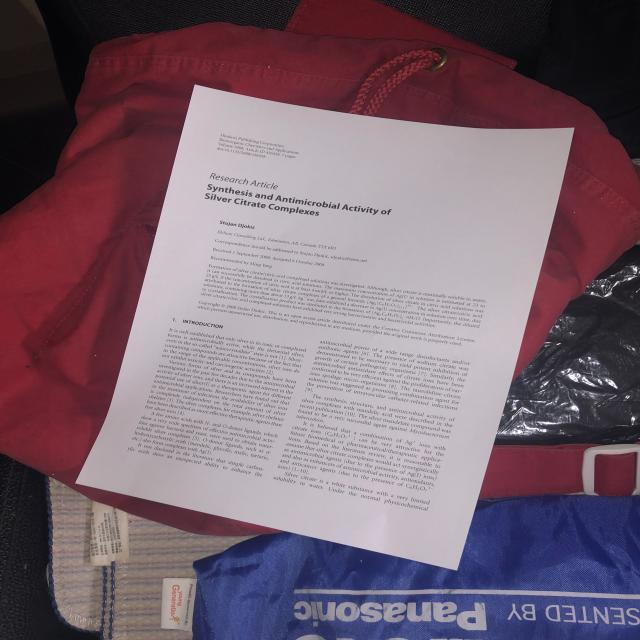document: (78, 86, 573, 569)
